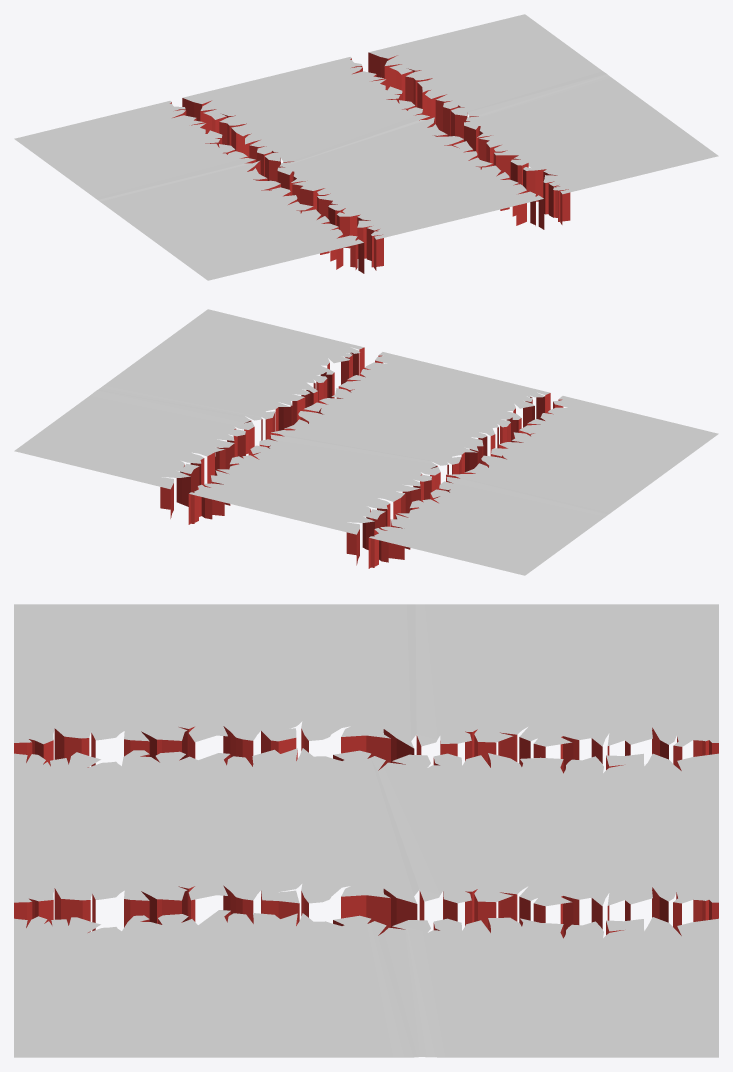
File: icefinal.fbx
The picture shows the model from 3 angles, top to bottom: view 1: azimuth 30°, elevation 25°; view 2: azimuth 150°, elevation 25°; view 3: azimuth 270°, elevation 25°; orthographic projection. The views are drawn at different scales.
Parts seen in each view (by area): view 1: Plane.008, Plane.009, Plane.010; view 2: Plane.008, Plane.009, Plane.010; view 3: Plane.008, Plane.010, Plane.009.
Boxes of the visible parts, left/top/right/bottom form: Plane.008: left=182, top=57, right=544, bottom=270; Plane.009: left=368, top=14, right=718, bottom=224; Plane.010: left=14, top=101, right=364, bottom=280; Plane.008: left=188, top=352, right=550, bottom=565; Plane.009: left=14, top=309, right=364, bottom=518; Plane.010: left=368, top=396, right=718, bottom=575; Plane.008: left=14, top=748, right=718, bottom=937; Plane.010: left=14, top=604, right=718, bottom=772; Plane.009: left=14, top=910, right=718, bottom=1057.
Size of the model in its own units: 8518 by 505 by 5600.
